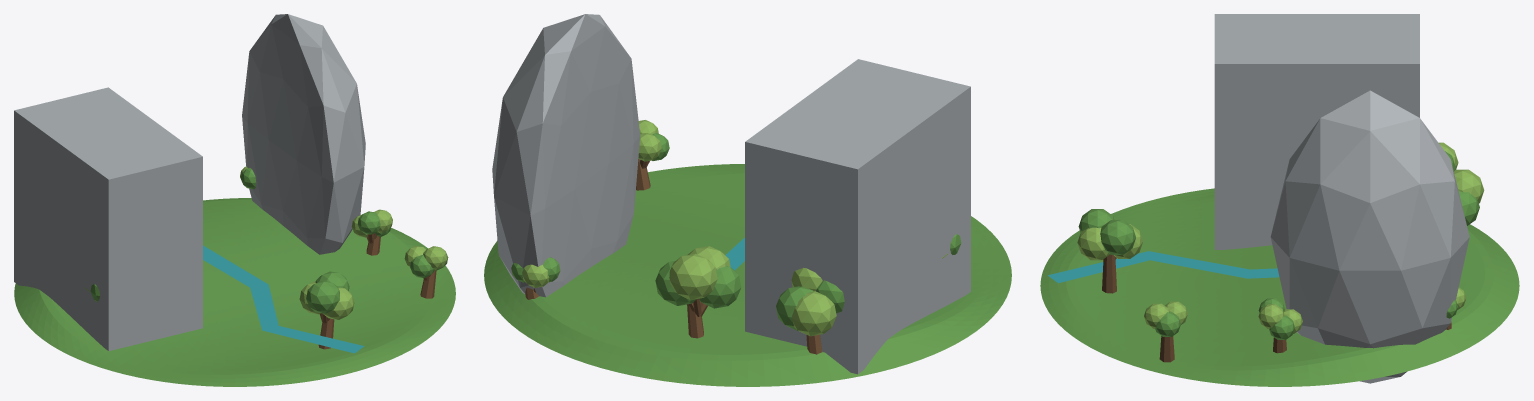
The model's file is FEATURE_YOSEMITE.fbx.
3 renders of one model, left to right at view 1: azimuth 30°, elevation 25°; view 2: azimuth 150°, elevation 25°; view 3: azimuth 270°, elevation 25°, orthographic. The views are drawn at different scales.
Visible parts, largest first — view 1: El_Capitan, Valley_floor, Half_Dome, Merced_River, Broadleaf_crown.086, Broadleaf_crown.087, Broadleaf_crown.078, Broadleaf_crown.099, Broadleaf_crown.098; view 2: El_Capitan, Valley_floor, Half_Dome, Broadleaf_crown.101, Broadleaf_crown.081, Broadleaf_crown.102, Broadleaf_crown.080, Broadleaf_crown.100, Broadleaf_crown.097, Broadleaf_crown.083, Broadleaf_crown.089, Broadleaf_crown.103 (+1 smaller); view 3: Half_Dome, Valley_floor, El_Capitan, Merced_River, Broadleaf_crown.084, Broadleaf_crown.087, Broadleaf_crown.101, Broadleaf_crown.086, Trunk.021, Broadleaf_crown.096, Broadleaf_crown.079, Broadleaf_crown.100 (+2 smaller).
Part boxes in pixels (left/top/right/bottom): El_Capitan: left=14, top=87, right=202, bottom=350; Valley_floor: left=14, top=198, right=455, bottom=386; Half_Dome: left=242, top=14, right=365, bottom=254; Merced_River: left=203, top=245, right=364, bottom=353; Broadleaf_crown.086: left=306, top=280, right=339, bottom=313; Broadleaf_crown.087: left=323, top=287, right=354, bottom=319; Broadleaf_crown.078: left=357, top=211, right=380, bottom=234; Broadleaf_crown.099: left=423, top=246, right=447, bottom=269; Broadleaf_crown.098: left=410, top=255, right=434, bottom=278; El_Capitan: left=745, top=59, right=970, bottom=374; Valley_floor: left=484, top=164, right=1011, bottom=386; Half_Dome: left=492, top=14, right=640, bottom=297; Broadleaf_crown.101: left=669, top=253, right=717, bottom=300; Broadleaf_crown.081: left=791, top=291, right=836, bottom=336; Broadleaf_crown.102: left=699, top=266, right=741, bottom=308; Broadleaf_crown.080: left=776, top=286, right=813, bottom=330; Broadleaf_crown.100: left=655, top=261, right=696, bottom=305; Broadleaf_crown.097: left=638, top=133, right=661, bottom=161; Broadleaf_crown.083: left=791, top=268, right=822, bottom=291; Broadleaf_crown.089: left=522, top=264, right=549, bottom=287; Broadleaf_crown.103: left=687, top=246, right=730, bottom=270; Half_Dome: left=1270, top=90, right=1469, bottom=383; Valley_floor: left=1040, top=188, right=1519, bottom=386; El_Capitan: left=1214, top=14, right=1419, bottom=249; Merced_River: left=1048, top=251, right=1279, bottom=283; Broadleaf_crown.084: left=1100, top=220, right=1135, bottom=254; Broadleaf_crown.087: left=1077, top=227, right=1110, bottom=260; Broadleaf_crown.101: left=1453, top=169, right=1484, bottom=203; Broadleaf_crown.086: left=1078, top=209, right=1114, bottom=232; Trunk.021: left=1102, top=254, right=1116, bottom=293; Broadleaf_crown.096: left=1155, top=311, right=1180, bottom=336; Broadleaf_crown.079: left=1258, top=304, right=1284, bottom=328; Broadleaf_crown.100: left=1458, top=190, right=1479, bottom=225.
Size of the model in its own units: 154 by 104 by 154.
